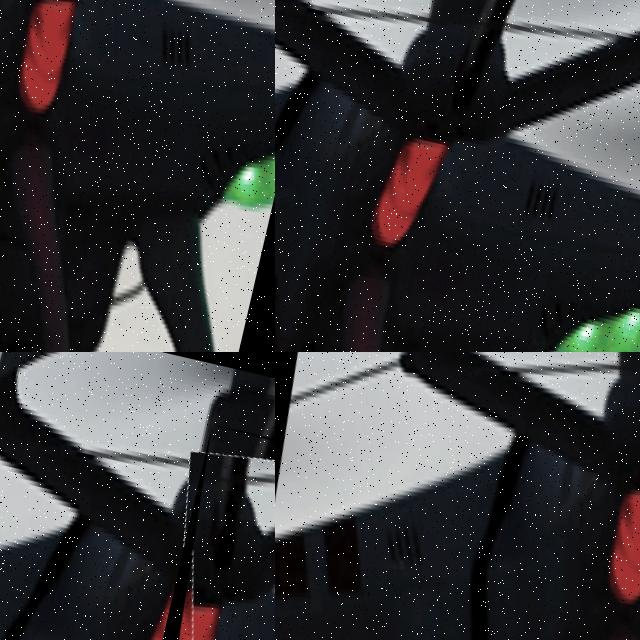drone: (275, 352, 640, 640), (0, 0, 275, 352), (112, 423, 275, 640)
